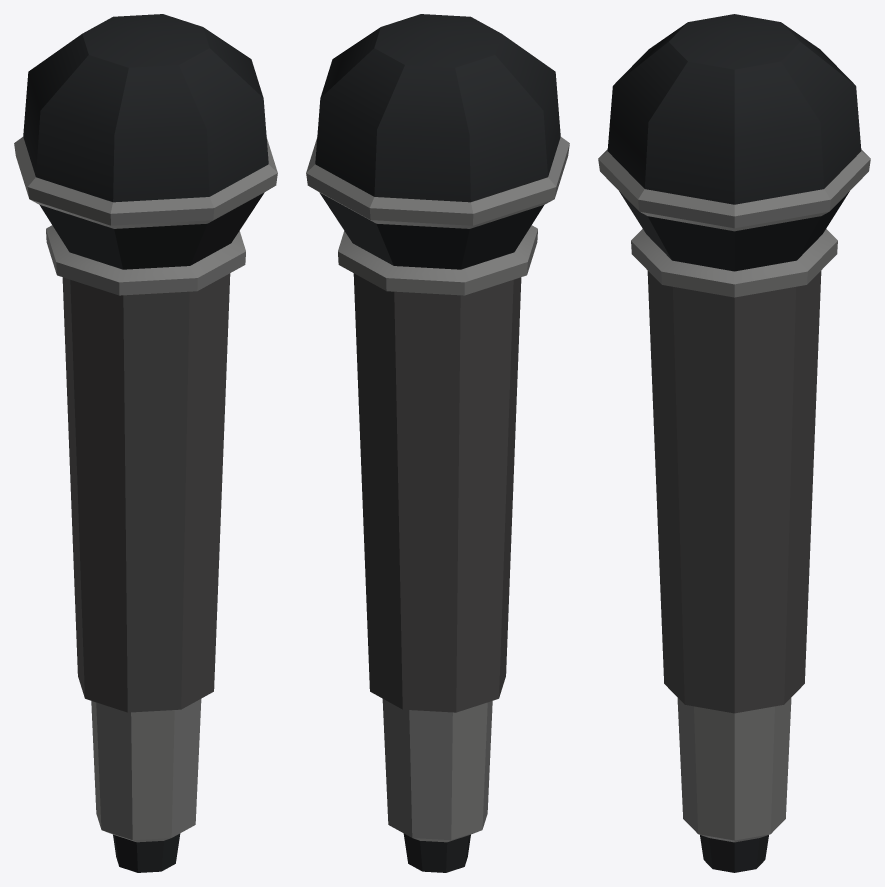
Rendered from SM_Prop_Microphone_01.fbx.
3 renders of one model, left to right at view 1: azimuth 30°, elevation 25°; view 2: azimuth 150°, elevation 25°; view 3: azimuth 270°, elevation 25°, orthographic.
Parts seen in each view (by area): view 1: SM_Prop_Microphone_01; view 2: SM_Prop_Microphone_01; view 3: SM_Prop_Microphone_01.
Boxes of the visible parts, bbox=[...] form: SM_Prop_Microphone_01: bbox=[14, 14, 277, 872]; SM_Prop_Microphone_01: bbox=[306, 14, 569, 872]; SM_Prop_Microphone_01: bbox=[598, 14, 870, 872].
Bounding box in the file's own units: 8.7 × 29.19 × 8.7.
